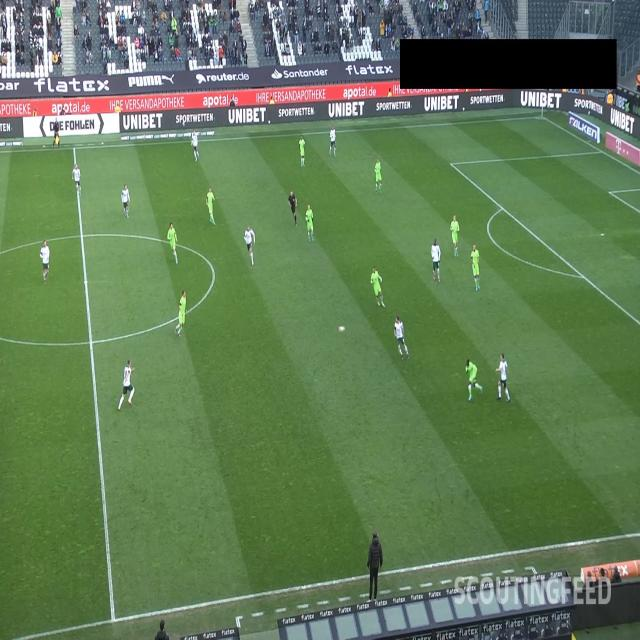ball: (336, 325, 346, 333)
